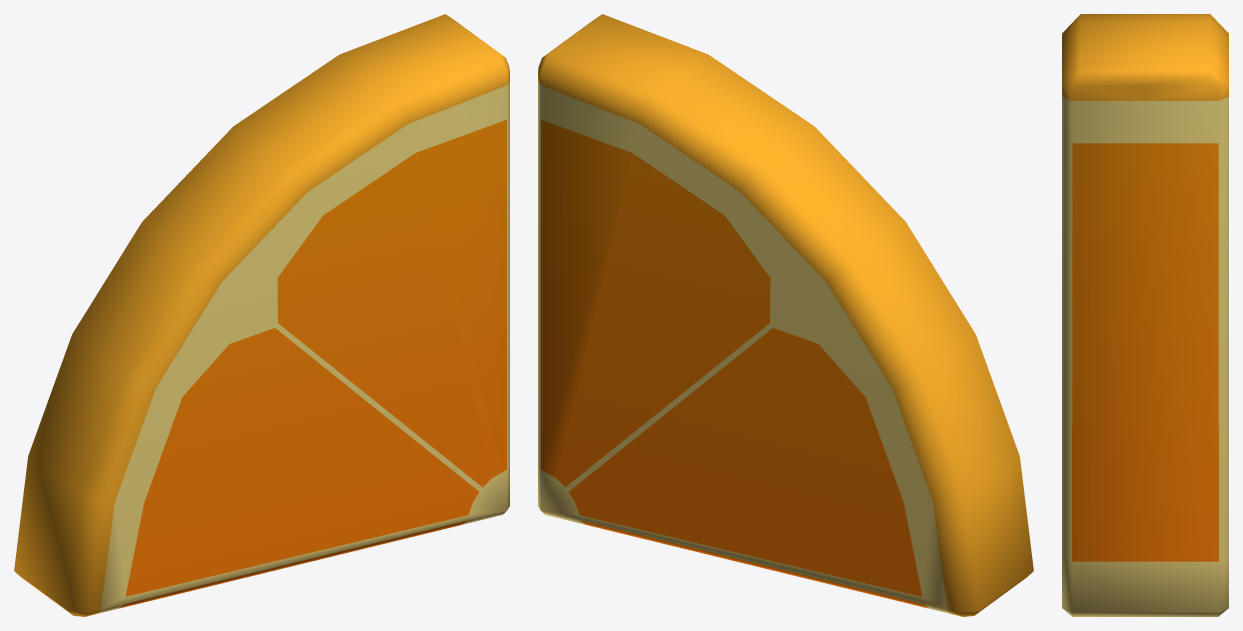
File: Quarter_of_a_orange.fbx
3 renders of one model, left to right at view 1: azimuth 30°, elevation 25°; view 2: azimuth 150°, elevation 25°; view 3: azimuth 270°, elevation 25°, orthographic. The views are drawn at different scales.
Parts seen in each view (by area): view 1: Quarter_of_a_orange; view 2: Quarter_of_a_orange; view 3: Quarter_of_a_orange.
Part boxes in pixels (x1,y1,x2,y2): Quarter_of_a_orange: (14, 14, 509, 616); Quarter_of_a_orange: (538, 14, 1033, 616); Quarter_of_a_orange: (1062, 14, 1228, 616).
Size of the model in its own units: 62.68 by 62.72 by 17.19.
